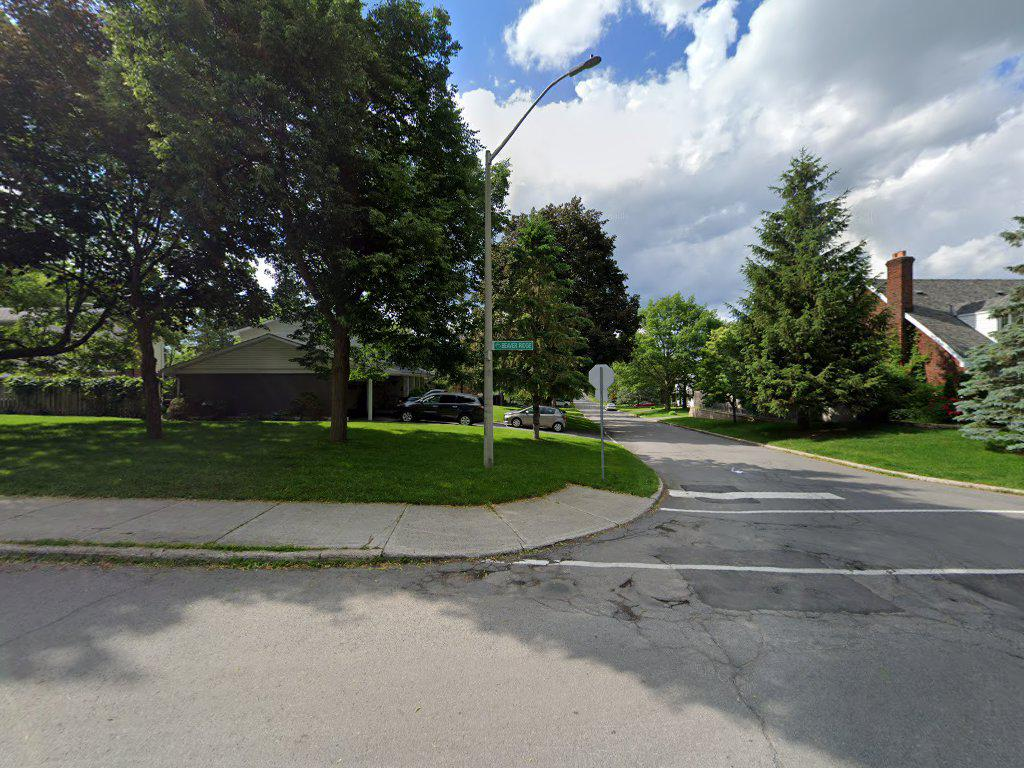trunk: (129, 280, 171, 450), (327, 326, 354, 446)
